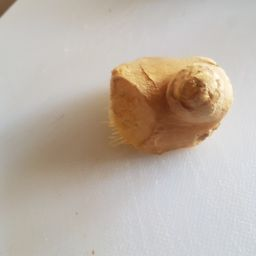Minced ginger: (96, 48, 237, 166)
